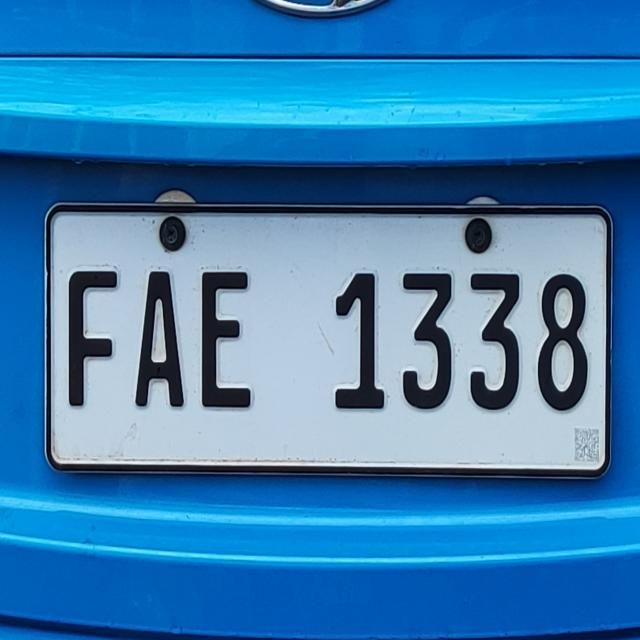LicensePlate: (35, 189, 615, 492)
